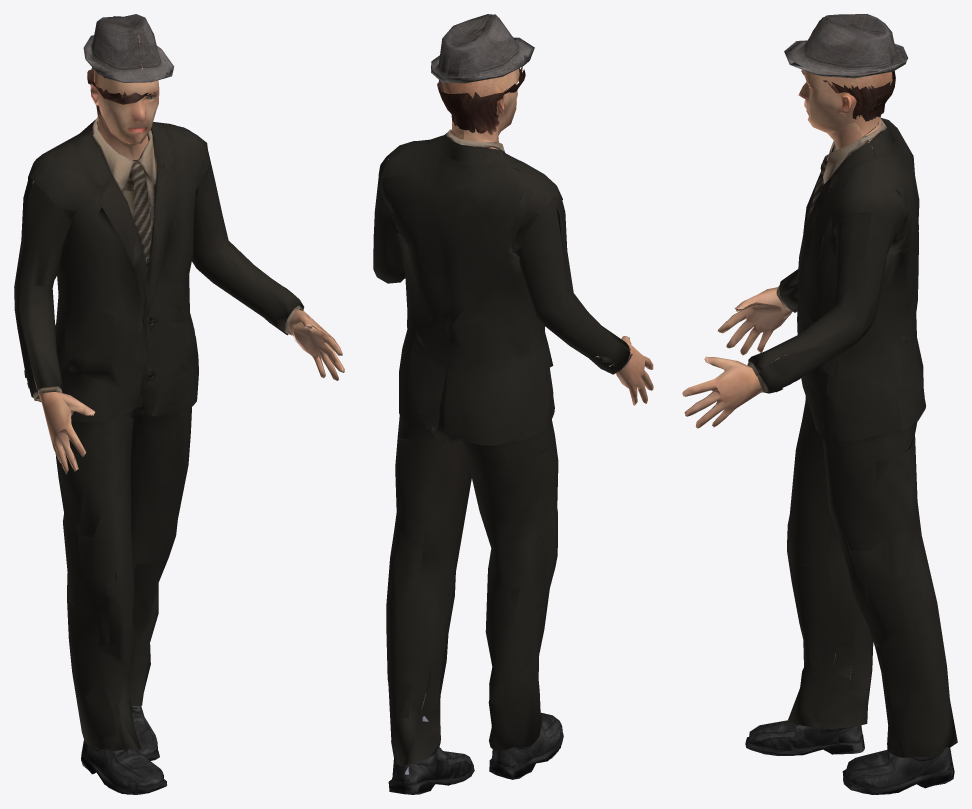
3 views of the same model, side by side, from view 1: azimuth 30°, elevation 25°; view 2: azimuth 150°, elevation 25°; view 3: azimuth 270°, elevation 25° (orthographic).
Visible parts, largest first — view 1: Modell; view 2: Modell; view 3: Modell.
Part boxes in pixels (<box>): Modell: <box>14,14,344,794</box>; Modell: <box>373,14,653,794</box>; Modell: <box>682,14,957,794</box>.
Bounding box in the file's own units: 0.6226 × 1.72 × 0.5691.
7 materials, 7 textured.
